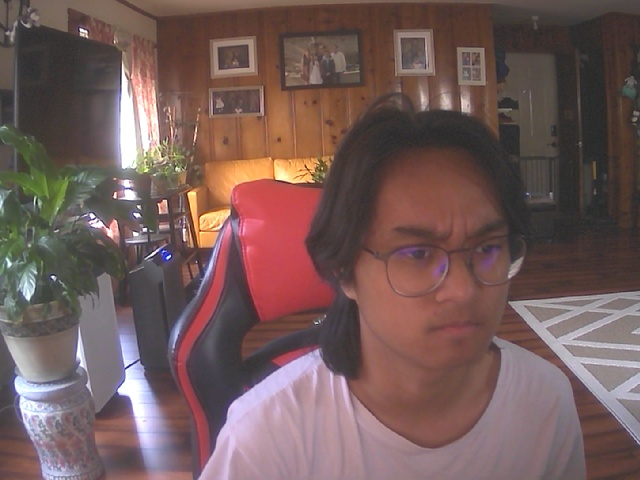anger: (329, 128, 532, 384)
